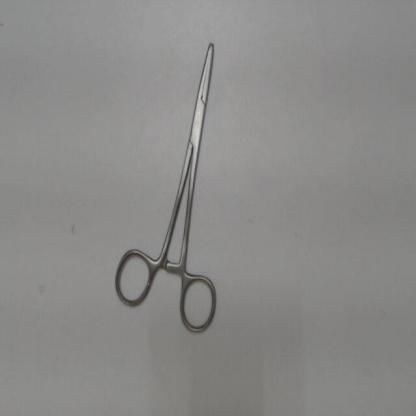Mayo Needle Holder: (107, 30, 222, 342)
